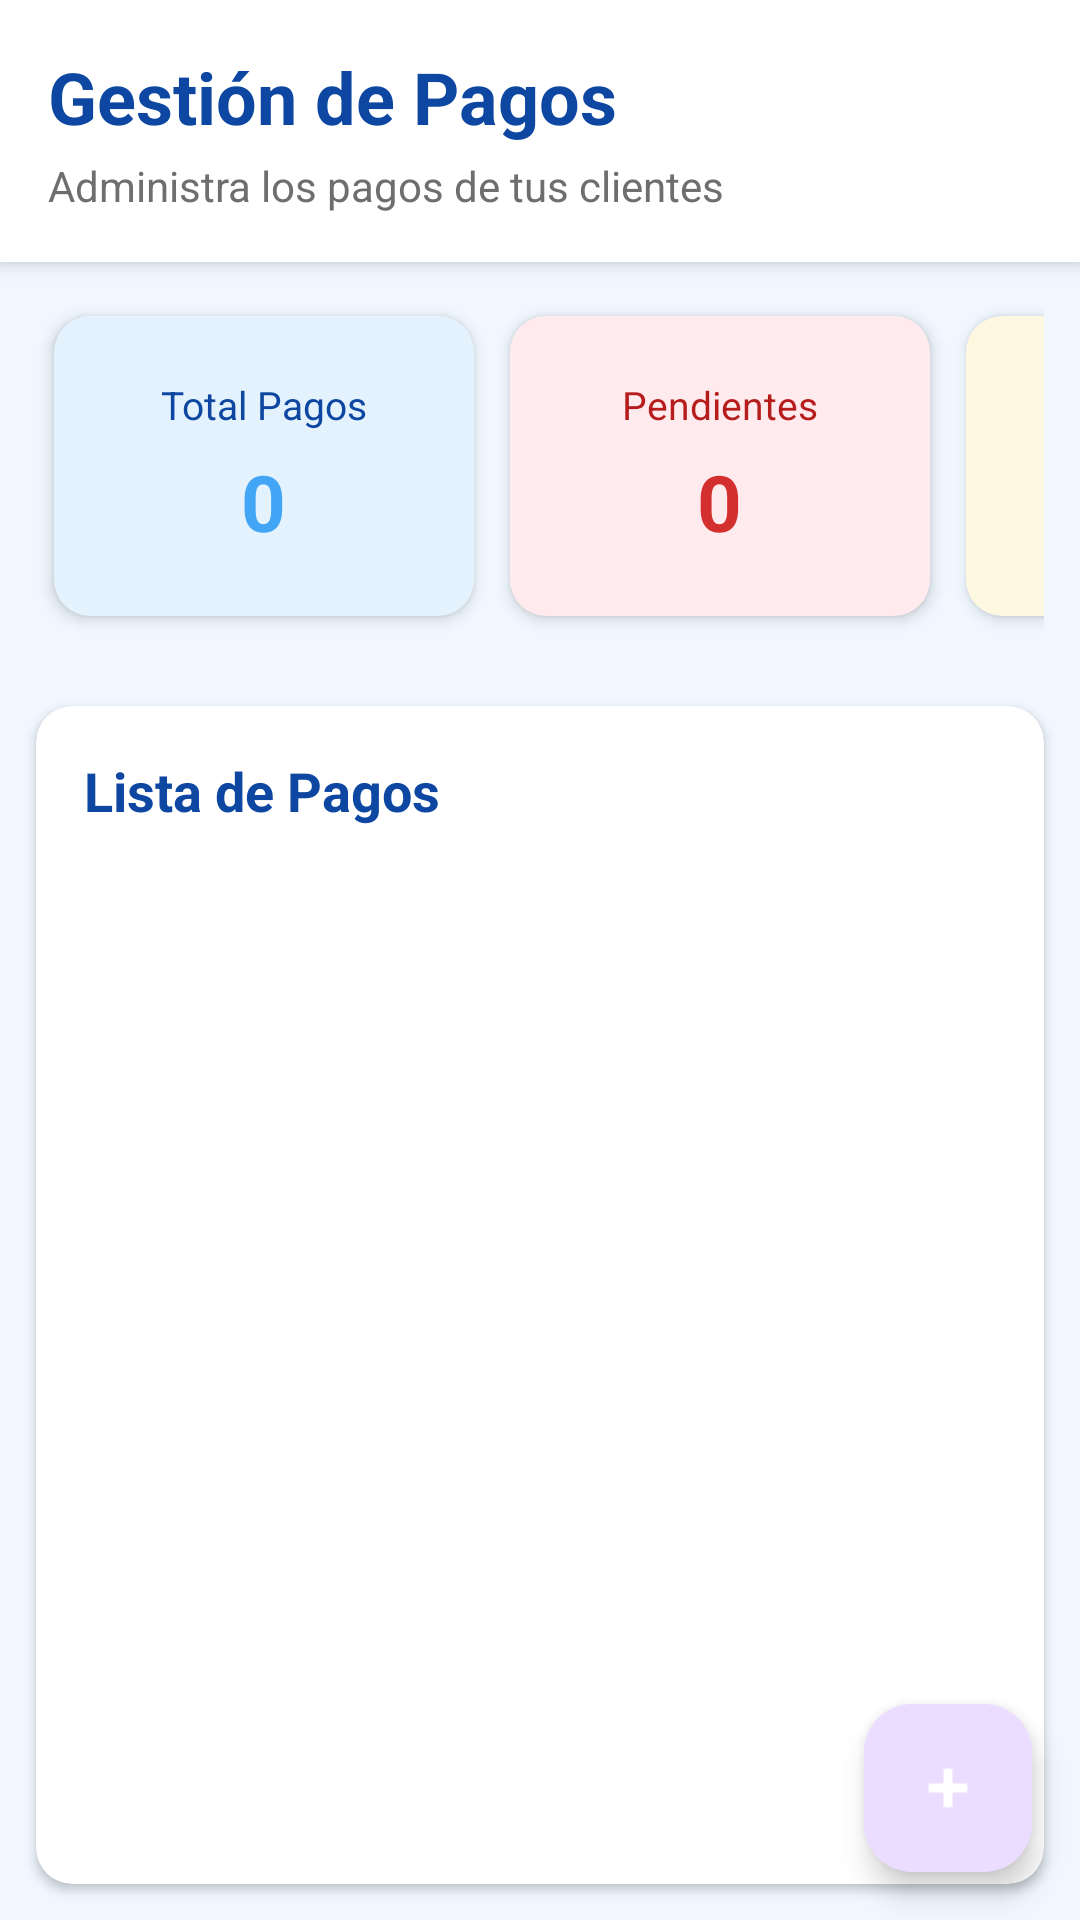

Icons on this 1080 × 1920 Android screen, each with the point to tap as (x=x, y=y):
Agregar Pago: (x=948, y=1788)
